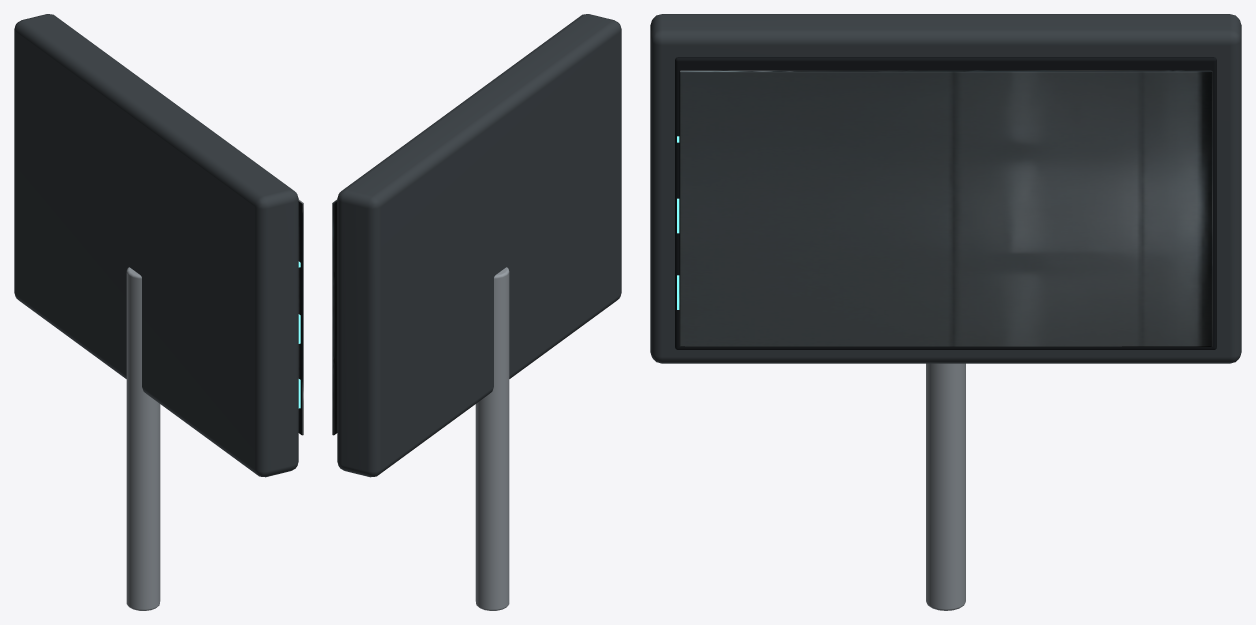
Rendered from ZH_ENV_Control_CCTV_Monitor_01.fbx.
3 views of the same model, side by side, from view 1: azimuth 30°, elevation 25°; view 2: azimuth 150°, elevation 25°; view 3: azimuth 270°, elevation 25° (orthographic). The views are drawn at different scales.
Visible parts, largest first — view 1: CCTV 1 | frame.001, Monitor | pedestal.003, CCTV | live-room preview 1.001; view 2: CCTV 1 | frame.001, Monitor | pedestal.003, CCTV | live-room preview 1.001; view 3: CCTV | live-room preview 1.001, CCTV 1 | frame.001, CCTV 1 | screen.001, Monitor | pedestal.003.
Boxes of the visible parts, x1,y1,x2,y2 form: CCTV 1 | frame.001: [14, 14, 298, 477]; Monitor | pedestal.003: [126, 267, 160, 610]; CCTV | live-room preview 1.001: [298, 199, 303, 435]; CCTV 1 | frame.001: [337, 14, 621, 477]; Monitor | pedestal.003: [475, 267, 509, 610]; CCTV | live-room preview 1.001: [332, 199, 337, 435]; CCTV | live-room preview 1.001: [679, 70, 1212, 346]; CCTV 1 | frame.001: [650, 14, 1241, 363]; CCTV 1 | screen.001: [675, 57, 1216, 349]; Monitor | pedestal.003: [926, 363, 965, 610].
Size of the model in its own units: 0.1935 by 1.45 by 1.32.
5 materials, 1 textured.
